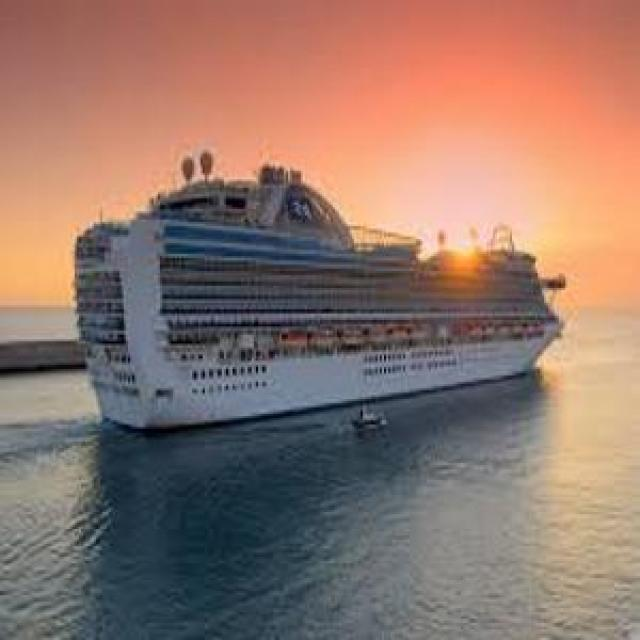passenger ship: (65, 164, 567, 424)
